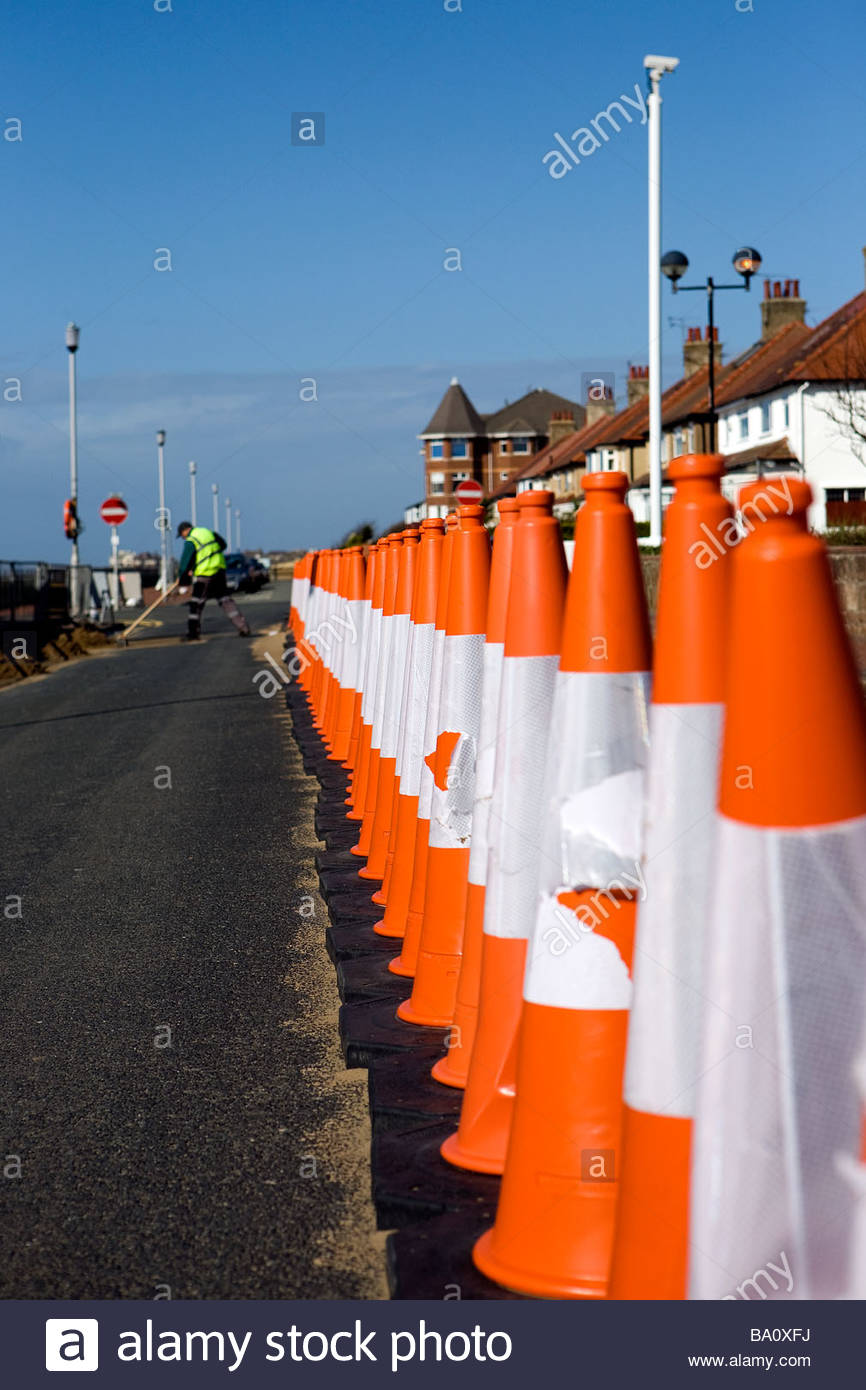cones: (550, 468, 712, 1309), (715, 478, 862, 1304), (359, 539, 550, 1171)
